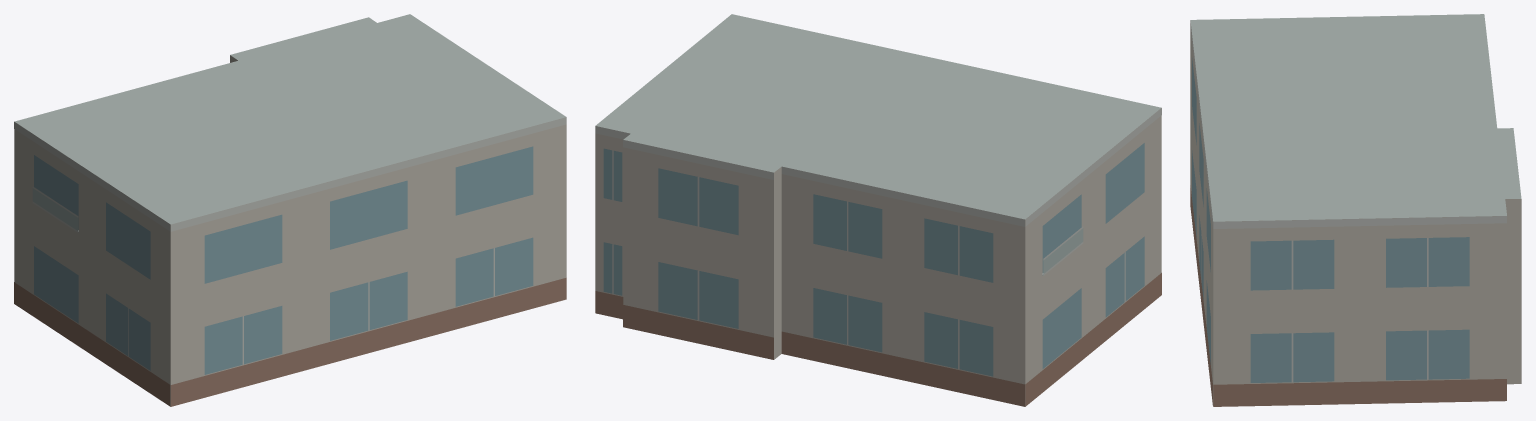
File: survey-upis-32717330.glb
3 views of the same model, side by side, from view 1: azimuth 30°, elevation 25°; view 2: azimuth 150°, elevation 25°; view 3: azimuth 270°, elevation 25° (orthographic). The views are drawn at different scales.
Parts seen in each view (by area): view 1: survey-upis-32717330.tmp; view 2: survey-upis-32717330.tmp; view 3: survey-upis-32717330.tmp.
Boxes of the visible parts, x1,y1,x2,y2 form: survey-upis-32717330.tmp: (14, 14, 566, 406); survey-upis-32717330.tmp: (595, 14, 1161, 406); survey-upis-32717330.tmp: (1190, 14, 1521, 406).
Bounding box in the file's own units: 14.68 × 6.1 × 9.9.
